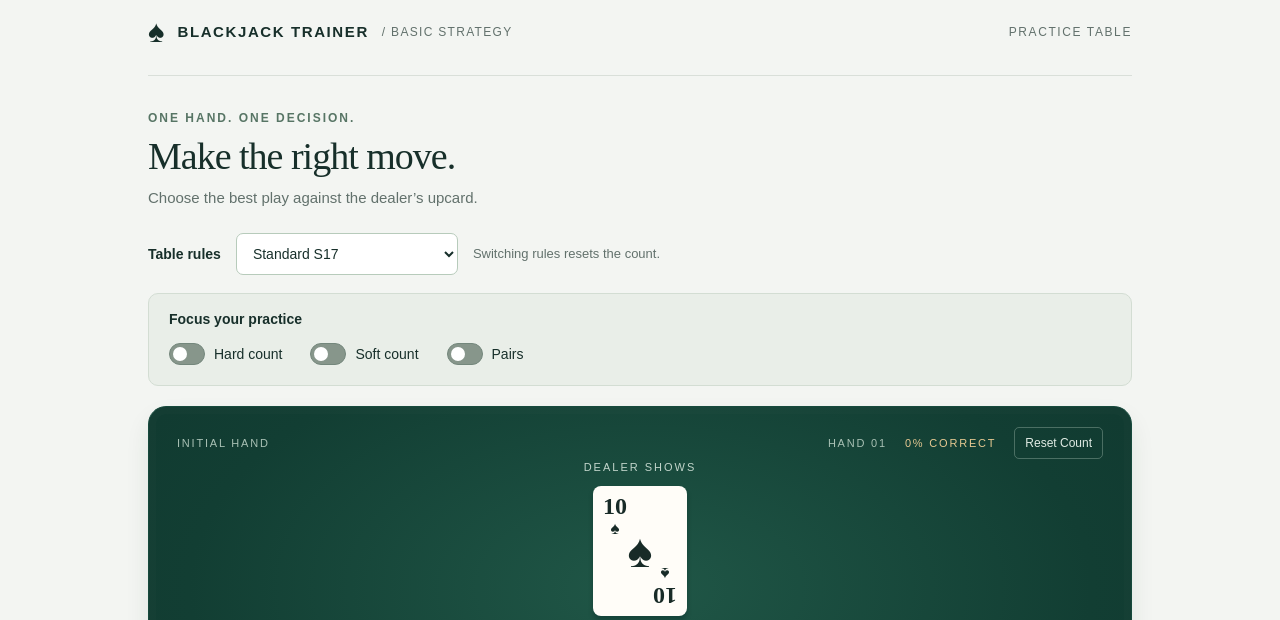
Scenario: practice interface › supports keyboard answers and restores focus on the next hand
Type keys "1"
(page scrolled)
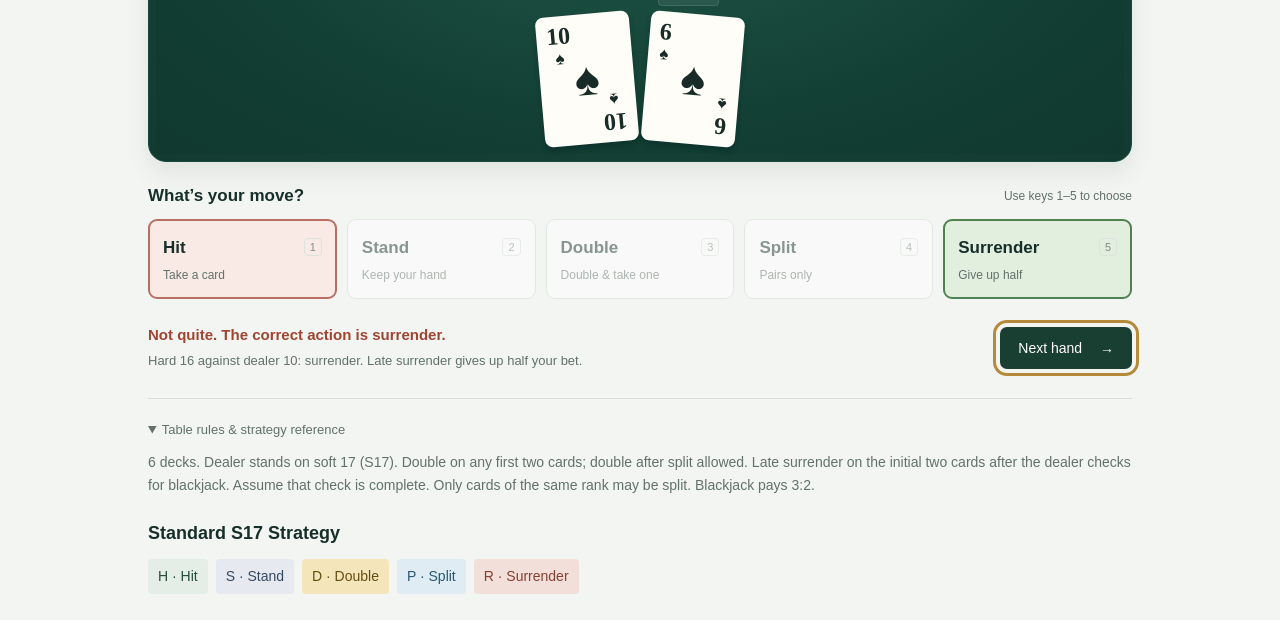
Now the button "1 Hit Take a card" is disabled, box [148,219,337,299]
Click the button "Next hand →" at (1066, 348), box [1000,327,1132,369]
(page scrolled)
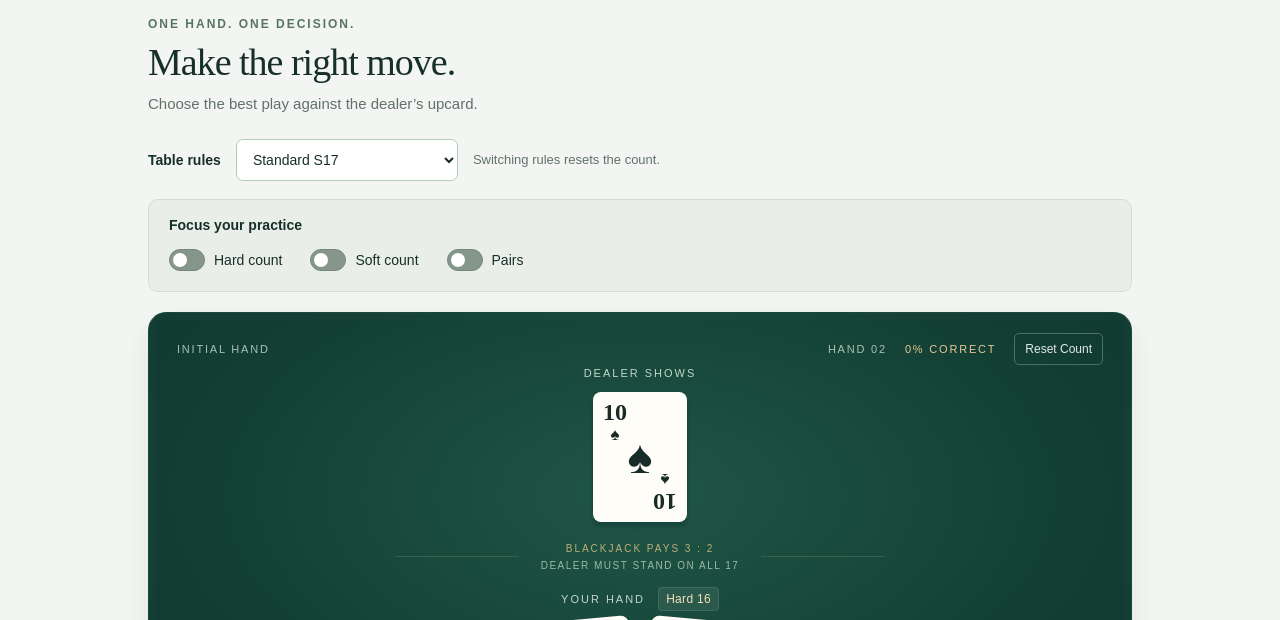
Now the text "HAND 02" is shown, box [828,343,887,355]
